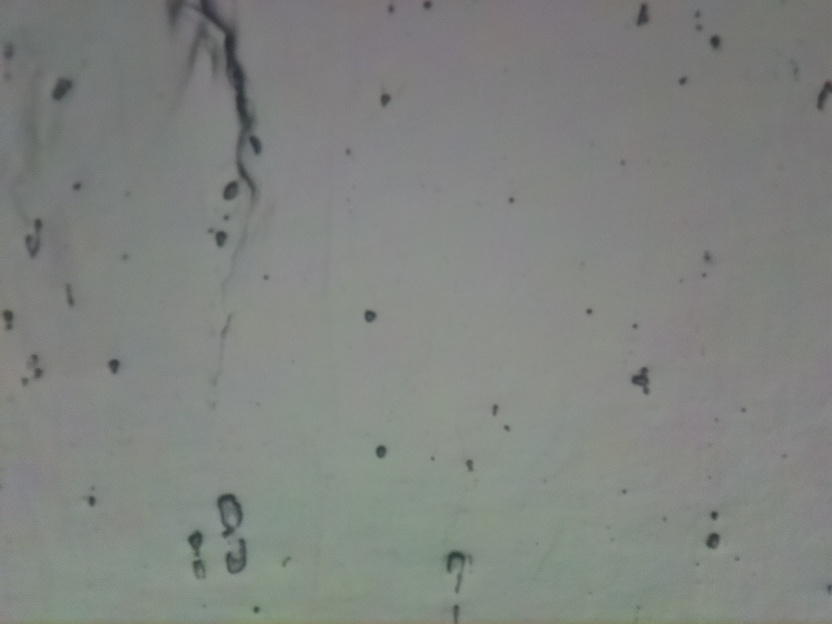crack: (204, 0, 265, 199)
